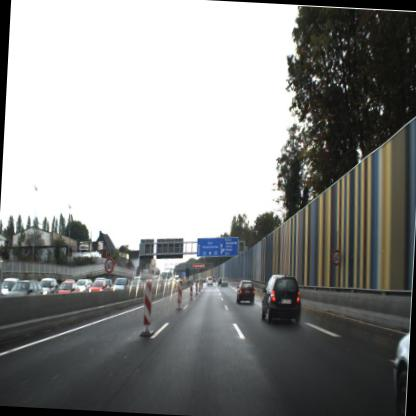prohibitory: (100, 254, 118, 276), (330, 246, 342, 268)
